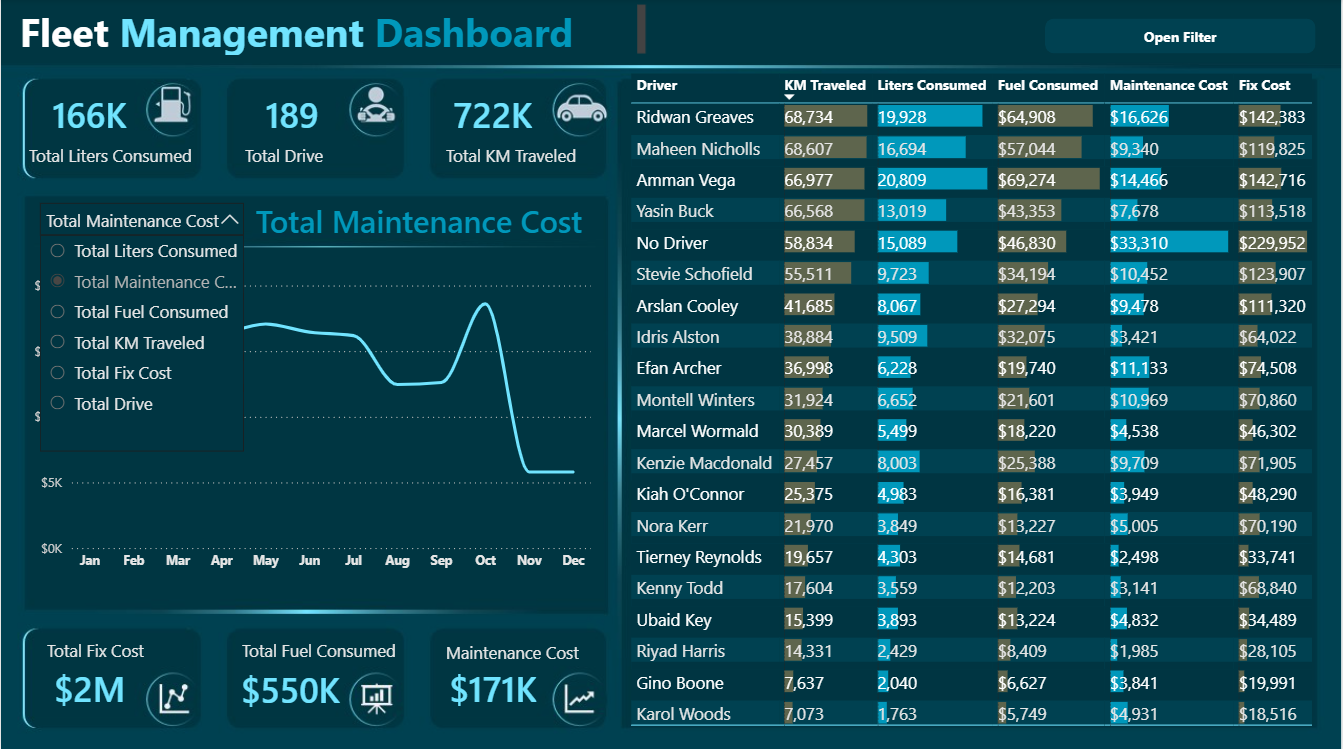

The dashboard page shown, as its layout file describes it:
{"tool":"powerbi","page":{"name":"Driver Dashboard","canvas":[1280,720],"ordinal":0},"visuals":[{"type":"tableEx","fields":{"Values":["Dim_Drivers.Driver","Measure Table.Total KM Traveled","Measure Table.Total Liters Consumed","Measure Table.Total Fuel Consumed","Measure Table.Total Maintenance Cost","Measure Table.Total Fix Cost"]},"box":[595.3,66,673.4,634.4],"z":0},{"type":"lineChart","fields":{"Y":["Measure Table.Total Maintenance Cost"],"Category":["DateTable.Months.Year","DateTable.Months.Month","DateTable.Months.Quarter"]},"box":[26.3,259.6,542.1,294.7],"z":1000},{"type":"slicer","fields":{"Values":["Switch Driver Measures.Switch Driver Measures"]},"box":[27.7,185.4,214.7,47.2],"z":2000},{"type":"cardVisual","fields":{"Data":["Measure Table.Total Liters Consumed"]},"box":[0,57.7,169.2,102.5],"z":3000},{"type":"cardVisual","fields":{"Data":["Measure Table.Total Drive"]},"box":[192.7,58.6,169.2,100.8],"z":4000},{"type":"cardVisual","fields":{"Data":["Measure Table.Total KM Traveled"]},"box":[385.5,59.4,169.2,99.2],"z":5000},{"type":"cardVisual","fields":{"Data":["Measure Table.Total Fix Cost"]},"box":[0,606.7,169.2,99.2],"z":6000},{"type":"cardVisual","fields":{"Data":["Measure Table.Total Fuel Consumed"]},"box":[192.3,607.7,169.2,100],"z":7000},{"type":"cardVisual","fields":{"Data":["Measure Table.Total Maintenance Cost"]},"box":[385.5,606.7,169.2,99.2],"z":8000},{"type":"cardVisual","fields":{"Rows":["Switch Driver Measures.Switch Driver Measures"]},"box":[226.1,172.4,357.8,118.7],"z":9000},{"type":"textbox","box":[13.4,0,607.5,58.2],"z":10000},{"type":"shape","box":[996.7,18.3,258.3,33.3],"z":11000},{"type":"textbox","box":[21.1,133.3,177.2,50.9],"z":13000},{"type":"textbox","box":[228.1,133.3,96.5,50.9],"z":14000},{"type":"textbox","box":[419.3,133.3,164.9,50.9],"z":15000},{"type":"textbox","box":[38.6,605.3,193,50.9],"z":16000},{"type":"textbox","box":[224.6,605.3,184.2,50.9],"z":17000},{"type":"textbox","box":[419.3,607,175.4,50.9],"z":18000}]}

Visuals, with their boxes in screenshot pixels (x1, y1, x2, y2), scaled from the page's 1280x720 canvas onto the 1343x749 screenshot:
tableEx - Dim_Drivers.Driver x Measure Table.Total KM Traveled: box(625, 69, 1331, 729)
lineChart - Measure Table.Total Maintenance Cost x DateTable.Months.Year: box(28, 270, 596, 577)
slicer - Switch Driver Measures.Switch Driver Measures: box(29, 193, 254, 242)
cardVisual - Measure Table.Total Liters Consumed: box(0, 60, 178, 167)
cardVisual - Measure Table.Total Drive: box(202, 61, 380, 166)
cardVisual - Measure Table.Total KM Traveled: box(404, 62, 582, 165)
cardVisual - Measure Table.Total Fix Cost: box(0, 631, 178, 734)
cardVisual - Measure Table.Total Fuel Consumed: box(202, 632, 379, 736)
cardVisual - Measure Table.Total Maintenance Cost: box(404, 631, 582, 734)
cardVisual - Switch Driver Measures.Switch Driver Measures: box(237, 179, 613, 303)
textbox: box(14, 0, 651, 61)
shape: box(1046, 19, 1317, 54)
textbox: box(22, 139, 208, 192)
textbox: box(239, 139, 341, 192)
textbox: box(440, 139, 613, 192)
textbox: box(40, 630, 243, 683)
textbox: box(236, 630, 429, 683)
textbox: box(440, 631, 624, 684)
